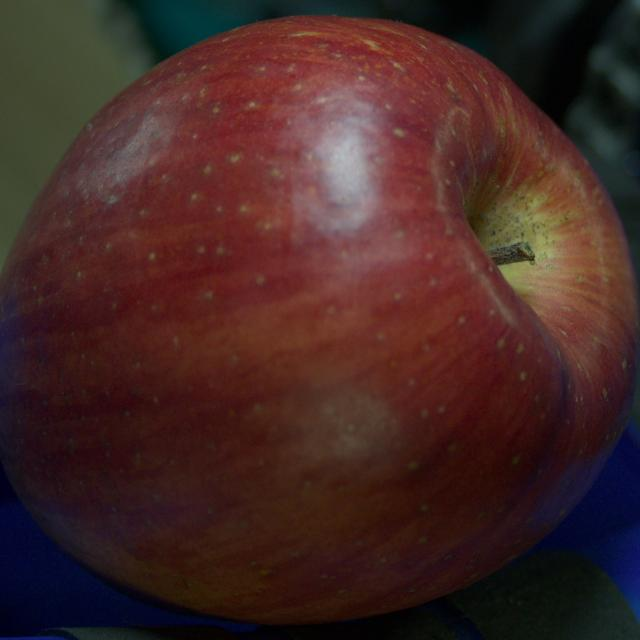apple: (0, 17, 639, 624)
